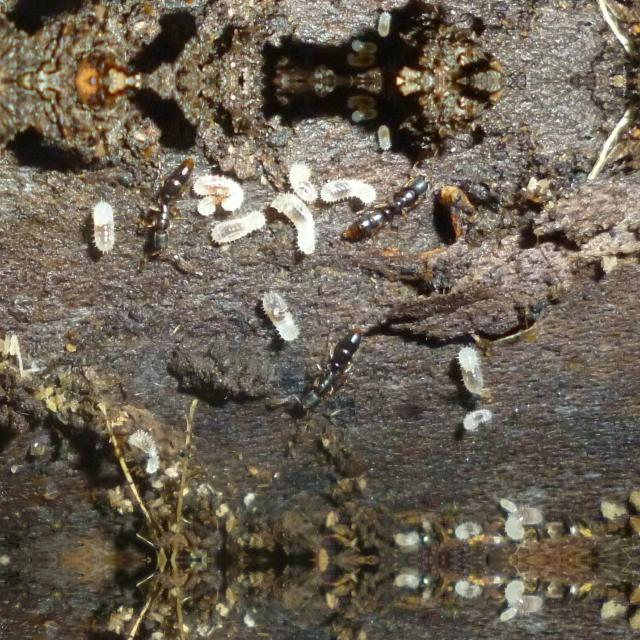Ponera: (278, 316, 377, 429), (322, 166, 436, 242), (142, 155, 194, 267)
